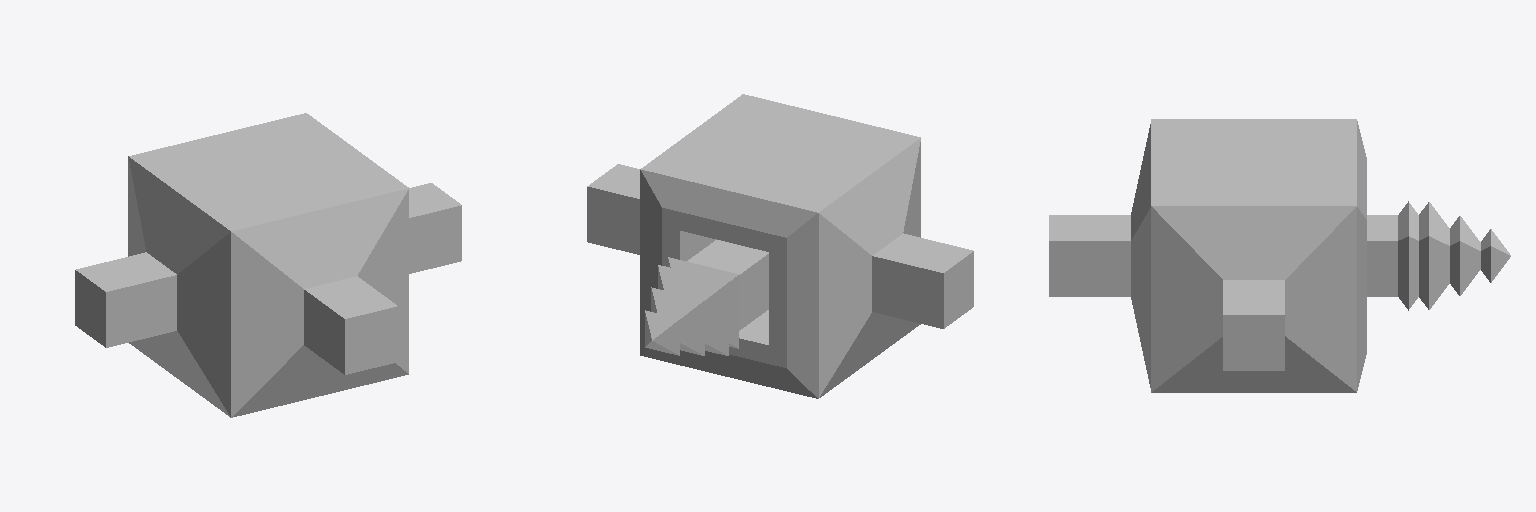
File: plasma gun.obj
The picture shows the model from 3 angles: view 1: azimuth 30°, elevation 25°; view 2: azimuth 150°, elevation 25°; view 3: azimuth 270°, elevation 25°; orthographic projection.
Visible parts, largest first — view 1: plasma gun.obj; view 2: plasma gun.obj; view 3: plasma gun.obj.
Boxes of the visible parts, <box> form: plasma gun.obj: <box>75,113,461,417</box>; plasma gun.obj: <box>587,94,973,398</box>; plasma gun.obj: <box>1049,119,1510,392</box>.
Bounding box in the file's own units: 2 × 1 × 2.25.